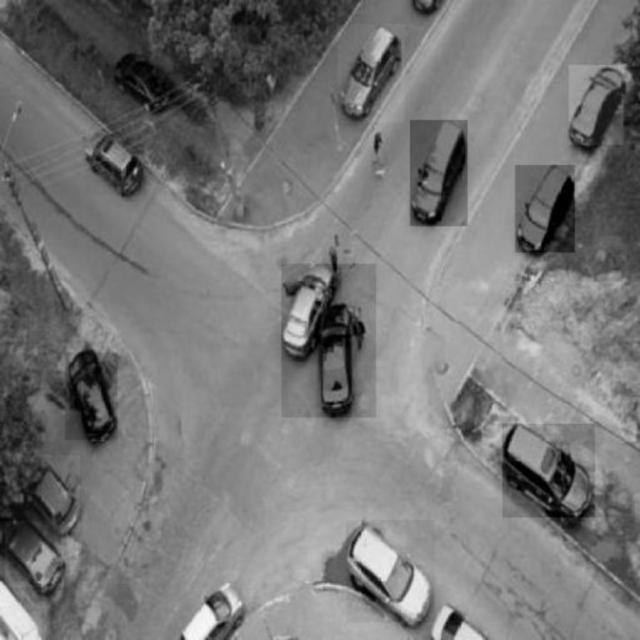accident: (281, 264, 375, 418)
vehicle: (347, 520, 435, 622), (503, 425, 596, 518), (338, 24, 405, 122), (411, 120, 468, 226), (515, 165, 575, 253), (13, 455, 80, 532), (65, 352, 117, 440), (569, 65, 624, 145), (84, 128, 146, 195), (5, 522, 63, 588)
